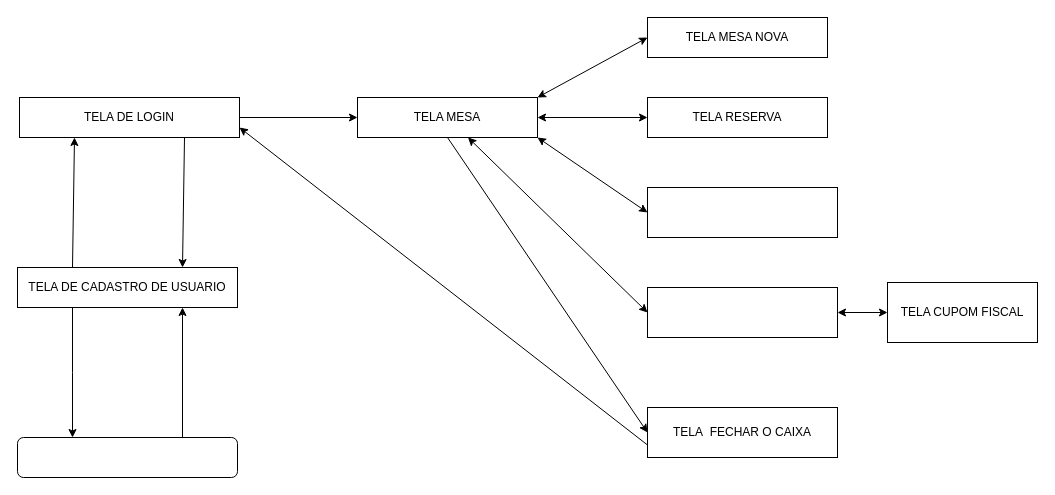
Some shapes in this 1055 by 495 pixel diagram are drawn without their labels. Each missing label, with the centre of its shape:
TELA DE ESTOQUE DE ALIMENTOS: the point at 127,457
TELA FECHAR MESA: the point at 742,312
TELA PEDIDOS: the point at 742,212
